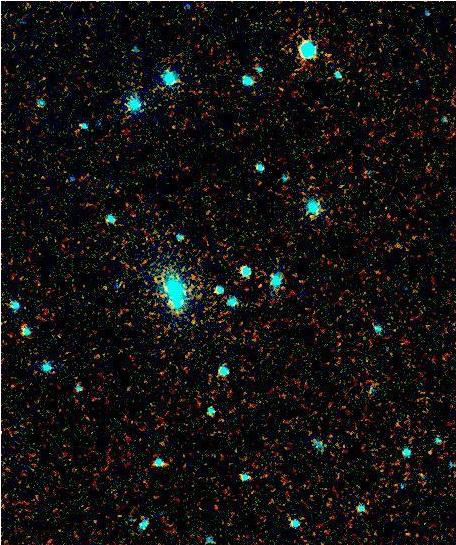star: (411, 438, 441, 468)
